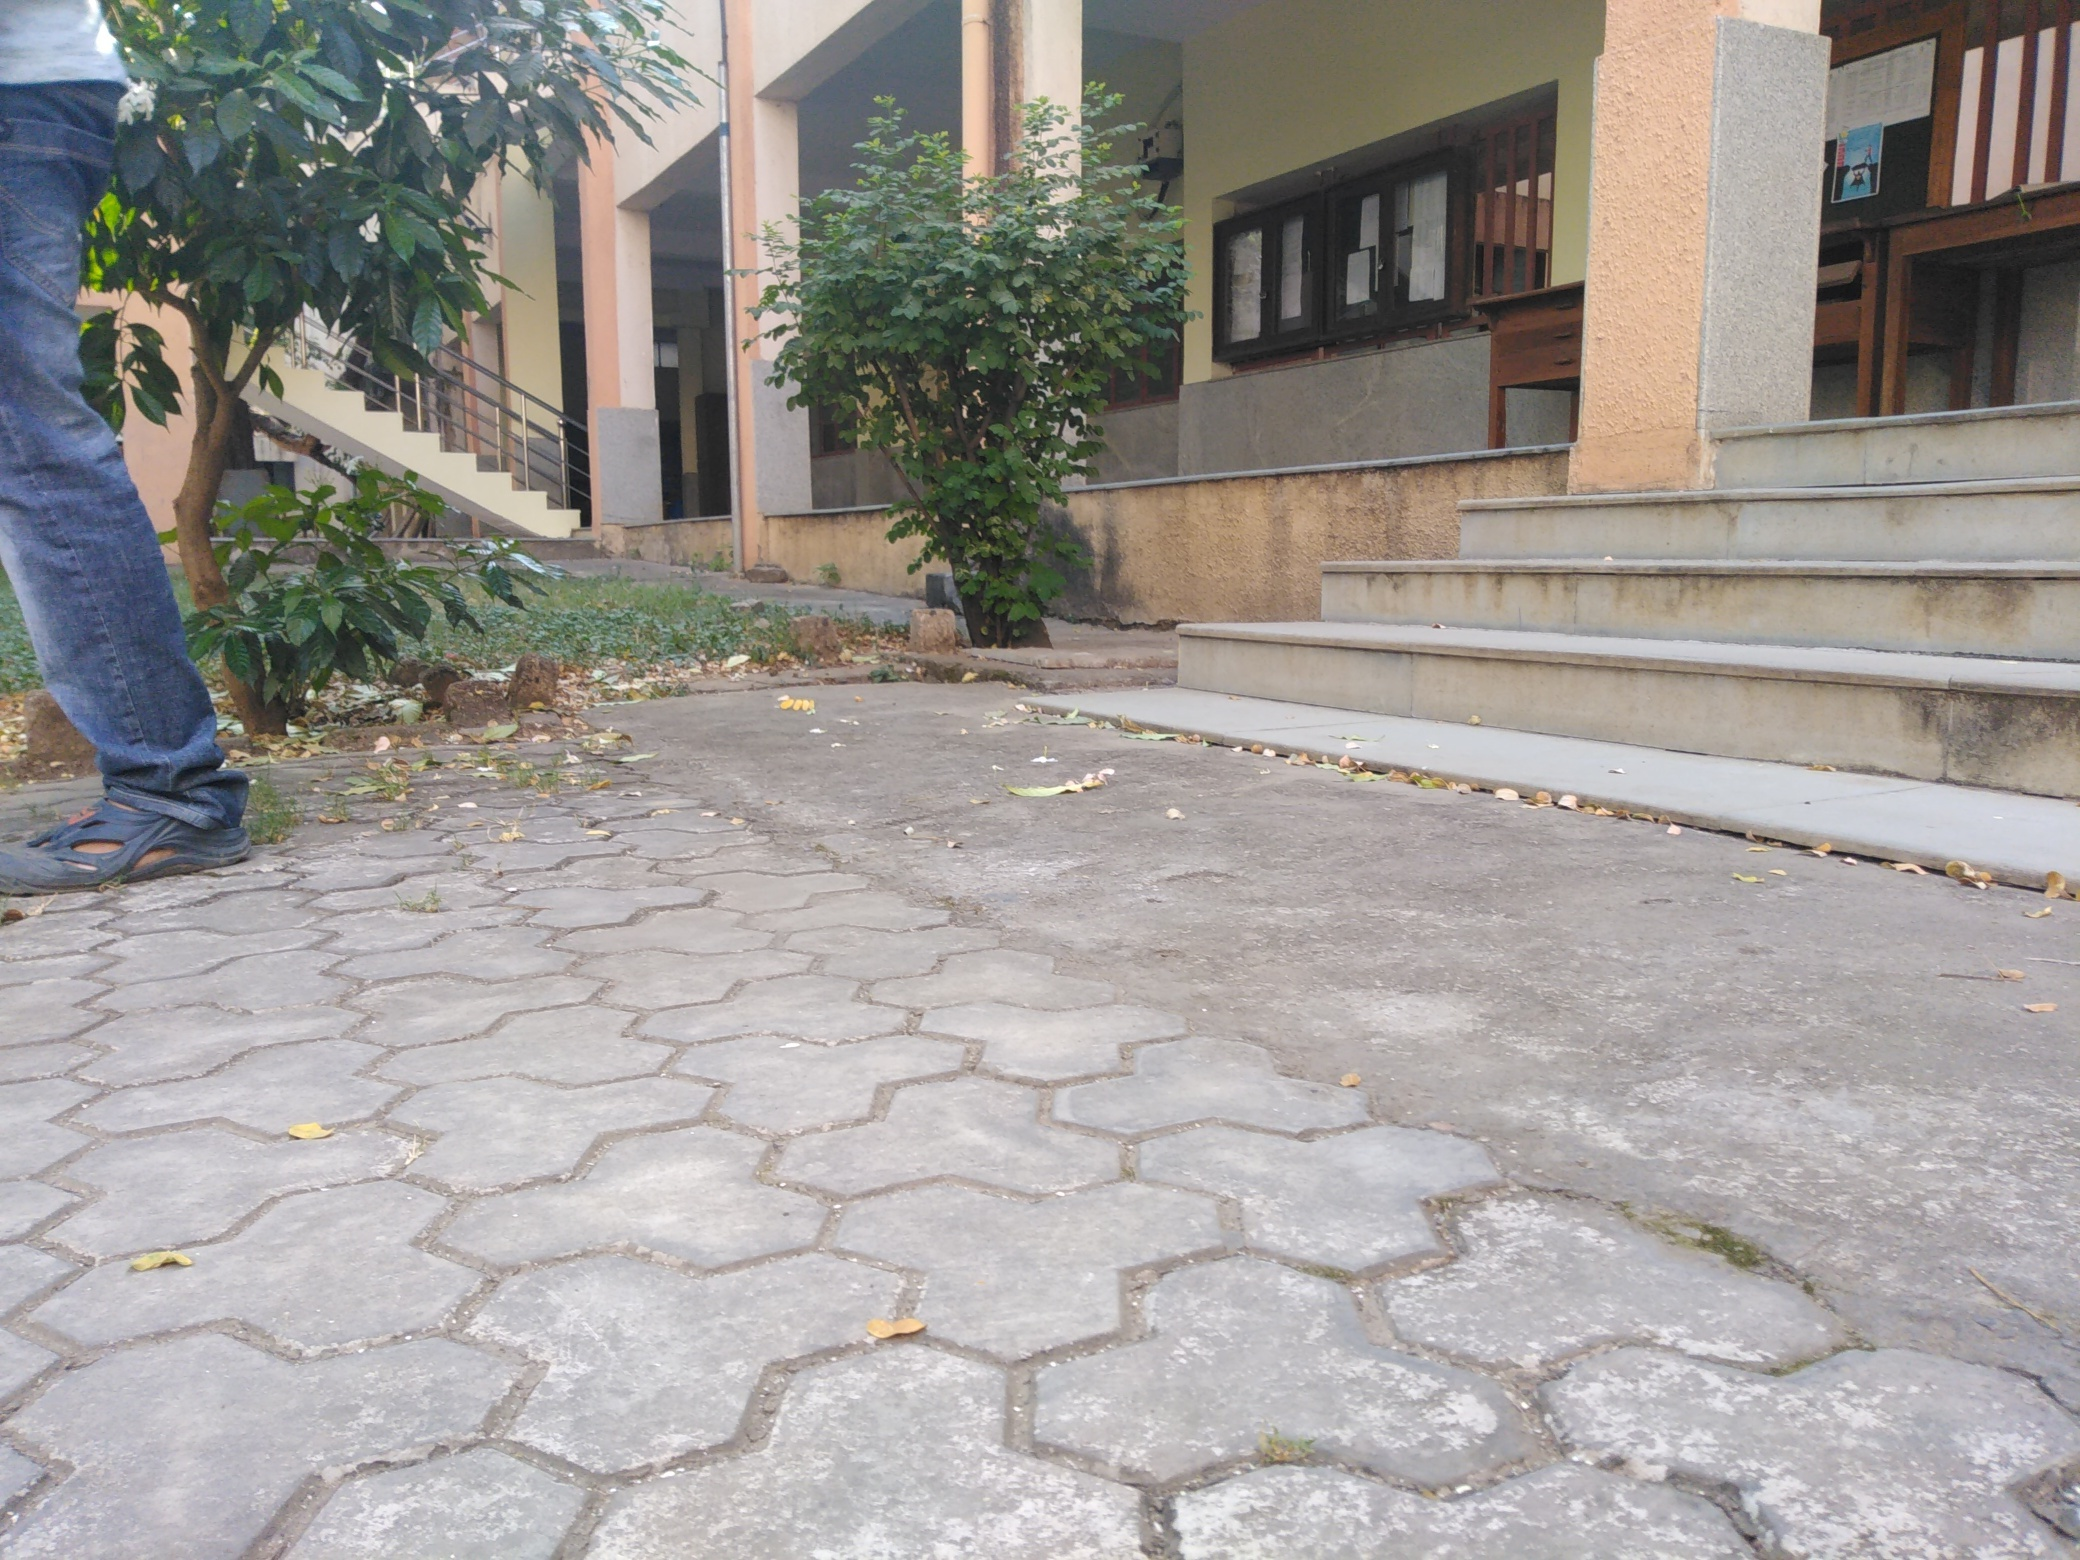stairs_up: (1187, 385, 2070, 800)
